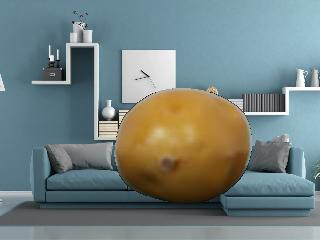potato: (110, 85, 256, 207)
